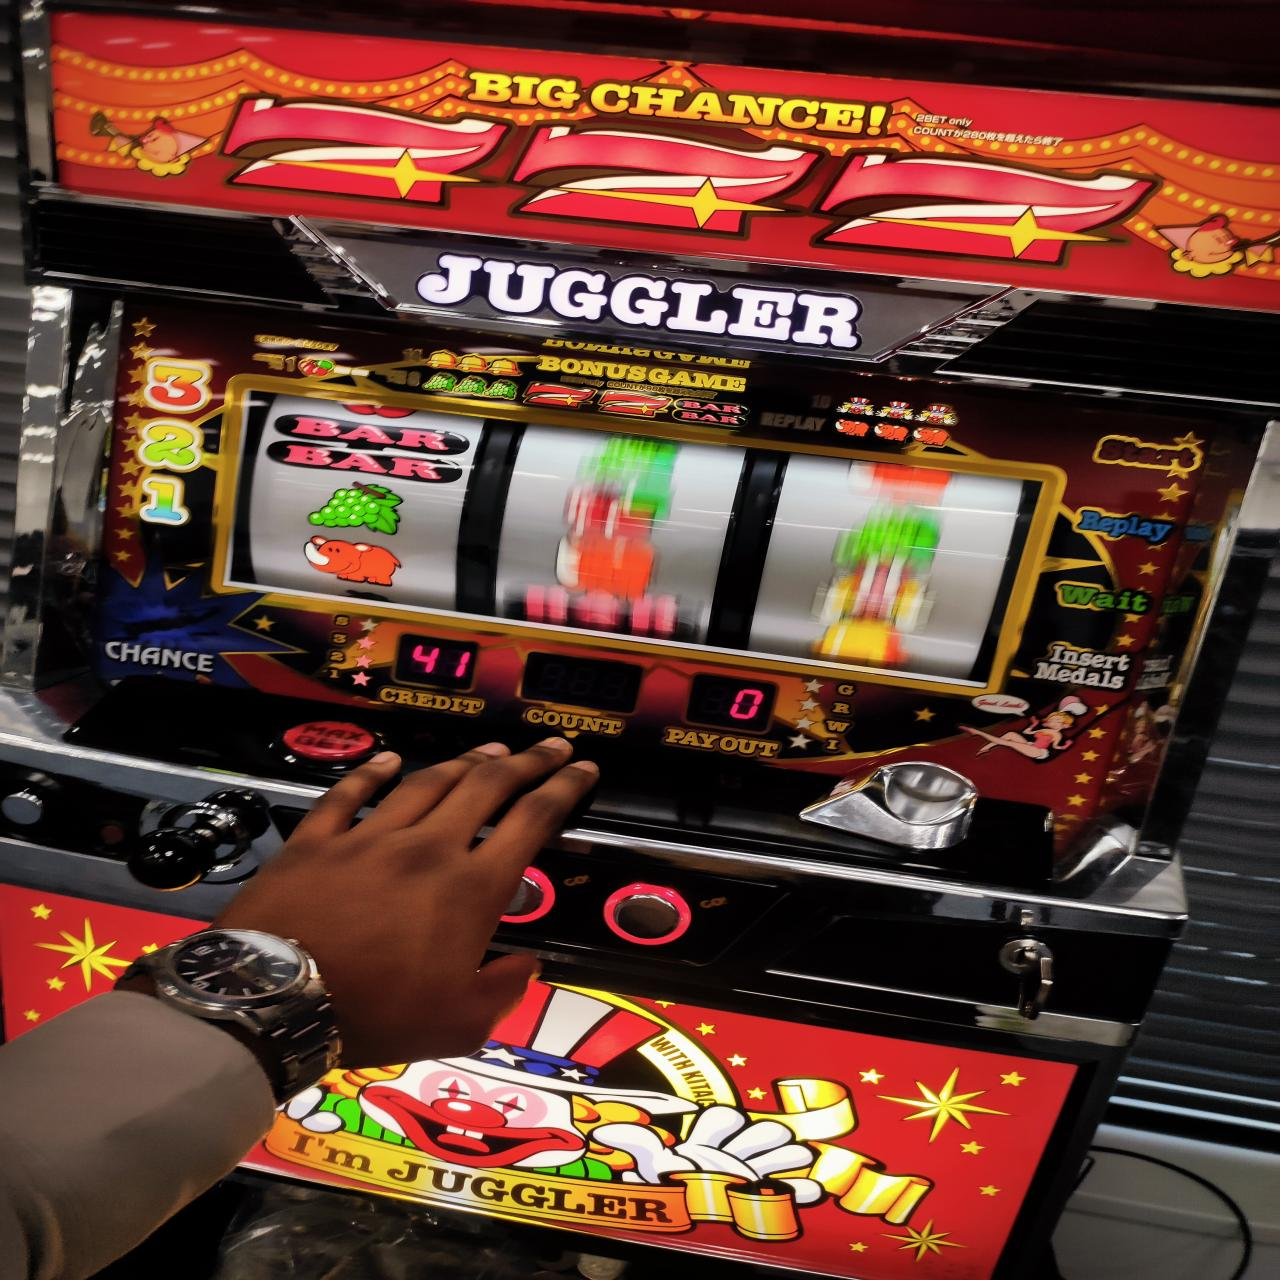8: (300, 535, 402, 586)
bar: (267, 411, 465, 483)
grape: (300, 483, 402, 535)
rhino: (239, 381, 988, 686)
